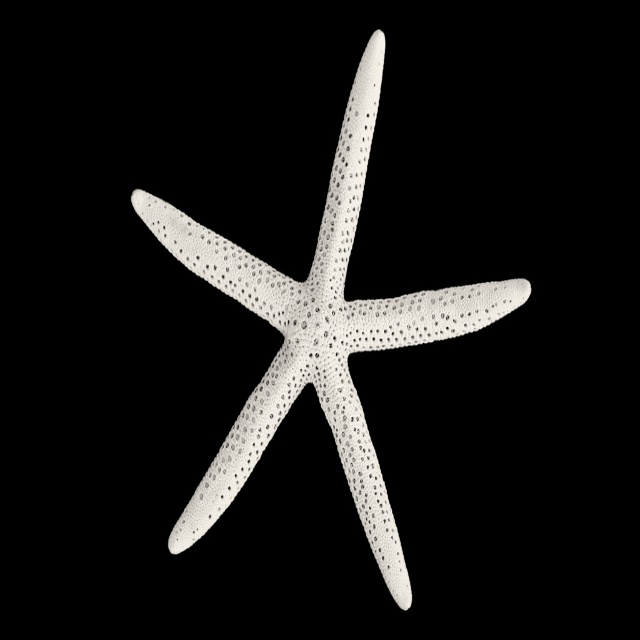Starfish: (131, 29, 531, 611)
